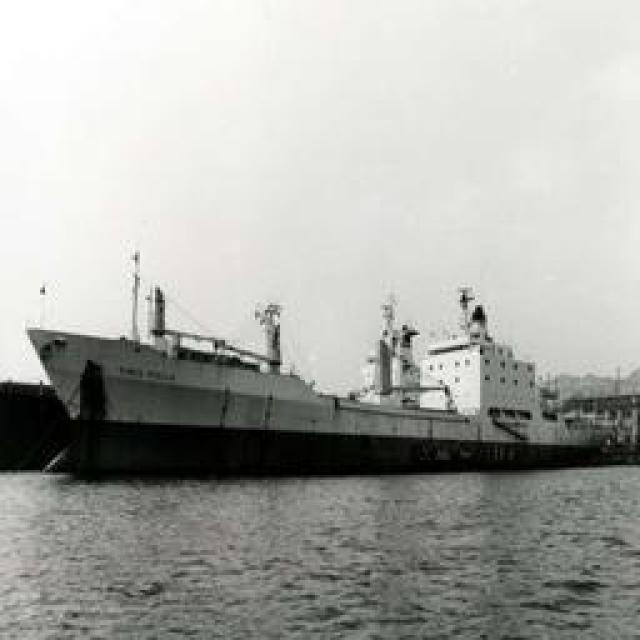Ship: (44, 287, 629, 477)
